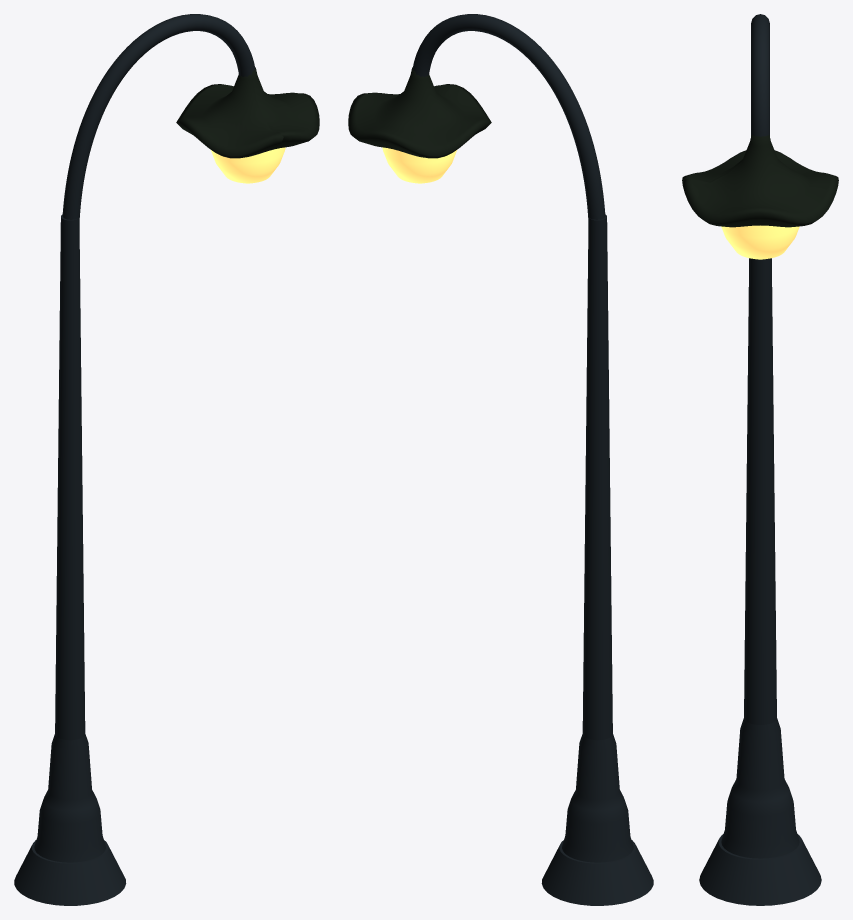
File: lamppost.glb
The picture shows the model from 3 angles, left to right: view 1: azimuth 30°, elevation 25°; view 2: azimuth 150°, elevation 25°; view 3: azimuth 270°, elevation 25°; orthographic projection. The views are drawn at different scales.
Parts seen in each view (by area): view 1: object 3, object 5, object 2, object 4, object 1, GlassEmitter; view 2: object 3, object 5, object 2, object 4, object 1, GlassEmitter; view 3: object 3, object 5, object 2, object 1, object 4, GlassEmitter.
Boxes of the visible parts, x1=… form: object 3: x1=55, y1=214, x2=85, y2=740; object 5: x1=176, y1=67, x2=319, y2=158; object 2: x1=34, y1=734, x2=105, y2=862; object 4: x1=62, y1=14, x2=255, y2=219; object 1: x1=14, y1=840, x2=126, y2=905; GlassEmitter: x1=211, y1=147, x2=285, y2=183; object 3: x1=582, y1=214, x2=612, y2=740; object 5: x1=348, y1=67, x2=491, y2=158; object 2: x1=562, y1=734, x2=633, y2=862; object 4: x1=412, y1=14, x2=605, y2=219; object 1: x1=541, y1=840, x2=653, y2=905; GlassEmitter: x1=382, y1=147, x2=456, y2=183; object 3: x1=744, y1=258, x2=776, y2=724; object 5: x1=682, y1=135, x2=838, y2=227; object 2: x1=721, y1=718, x2=799, y2=858; object 1: x1=699, y1=834, x2=821, y2=905; object 4: x1=751, y1=14, x2=769, y2=136; GlassEmitter: x1=721, y1=225, x2=799, y2=259.
Size of the model in its own units: 1.04 by 2.88 by 0.448.
